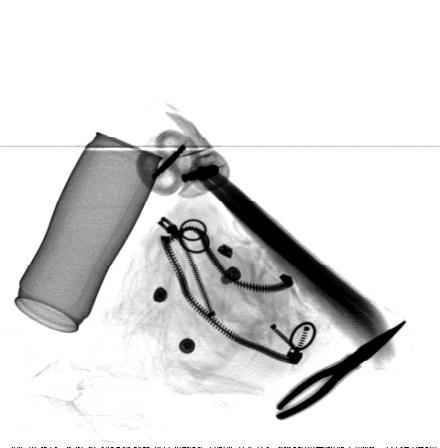Pliers: (274, 318, 407, 423)
